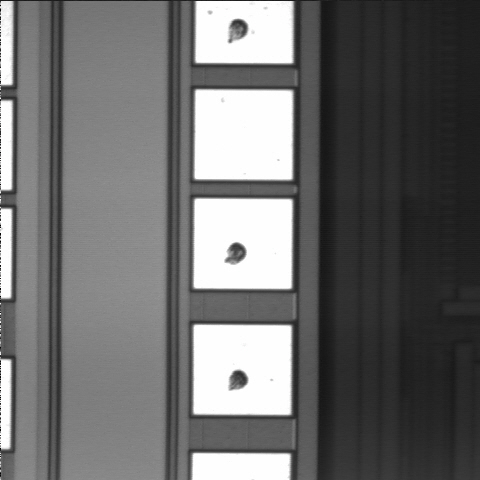pad: (195, 90, 293, 180), (194, 199, 292, 289), (193, 325, 291, 415)
